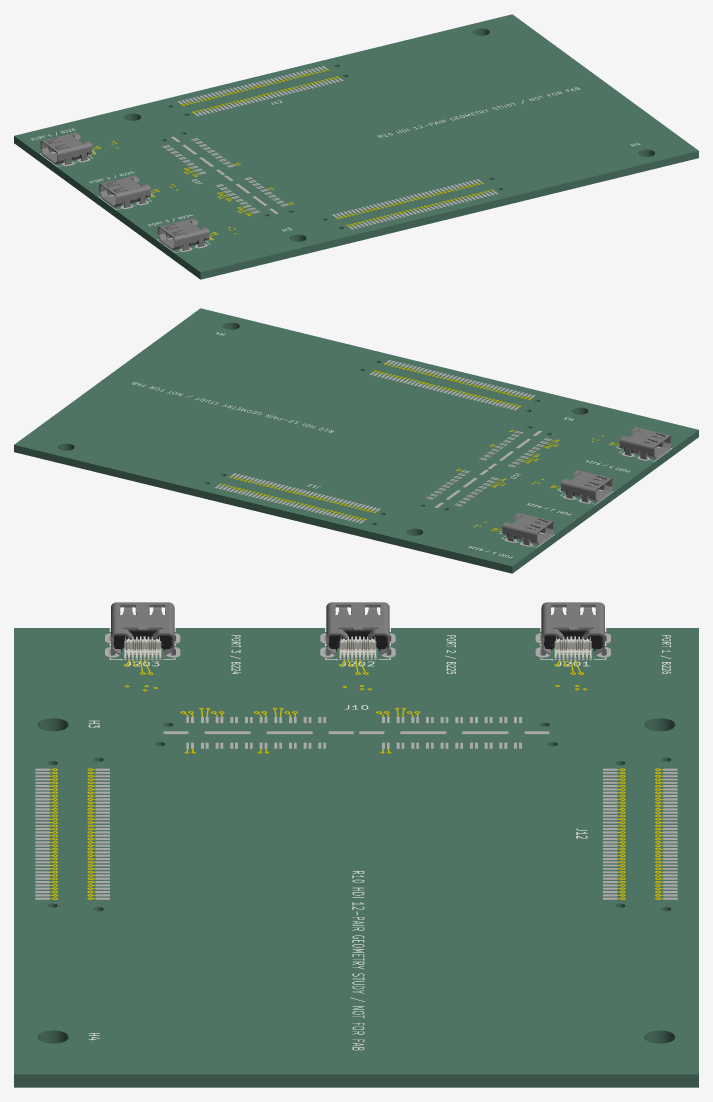
File: r10-interposer-hdi-feasibility.glb
The picture shows the model from 3 angles, top to bottom: view 1: azimuth 30°, elevation 25°; view 2: azimuth 150°, elevation 25°; view 3: azimuth 270°, elevation 25°; orthographic projection. The views are drawn at different scales.
Parts seen in each view (by area): view 1: =>[0:1:1:9], =>[0:1:1:3] (×3), =>[0:1:1:5], =>[0:1:1:4], =>[0:1:1:7]; view 2: =>[0:1:1:9], =>[0:1:1:3] (×3), =>[0:1:1:5], =>[0:1:1:4], =>[0:1:1:7]; view 3: =>[0:1:1:9], =>[0:1:1:5], =>[0:1:1:3] (×3), =>[0:1:1:4], =>[0:1:1:7].
Boxes of the visible parts, bbox=[...] form: =>[0:1:1:9]: bbox=[14, 14, 698, 279]; =>[0:1:1:3] (×3): bbox=[40, 132, 209, 250]; =>[0:1:1:5]: bbox=[50, 66, 497, 252]; =>[0:1:1:4]: bbox=[90, 69, 493, 240]; =>[0:1:1:7]: bbox=[31, 87, 640, 252]; =>[0:1:1:9]: bbox=[14, 308, 698, 573]; =>[0:1:1:3] (×3): bbox=[502, 427, 671, 545]; =>[0:1:1:5]: bbox=[215, 360, 661, 546]; =>[0:1:1:4]: bbox=[219, 363, 619, 531]; =>[0:1:1:7]: bbox=[132, 332, 671, 558]; =>[0:1:1:9]: bbox=[14, 628, 698, 1087]; =>[0:1:1:5]: bbox=[35, 633, 677, 899]; =>[0:1:1:3] (×3): bbox=[111, 602, 604, 658]; =>[0:1:1:4]: bbox=[49, 650, 663, 900]; =>[0:1:1:7]: bbox=[88, 627, 671, 1050].
Bounding box in the file's own units: 0.1079 × 0.00457 × 0.07.
